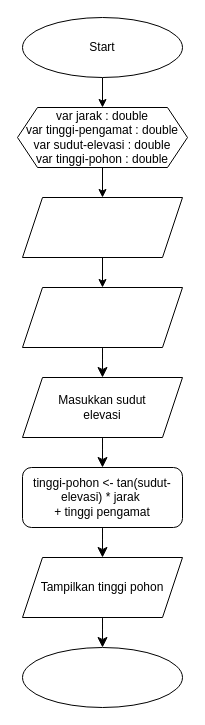
This 205x725 diagram has some shape labels left out. The centre of each missing label's shape, as x and y in pixels:
"End" belongs at point (102, 677).
"Masukkan jarak" belongs at point (102, 227).
"Masukkan tinggi pengamat" belongs at point (102, 317).
